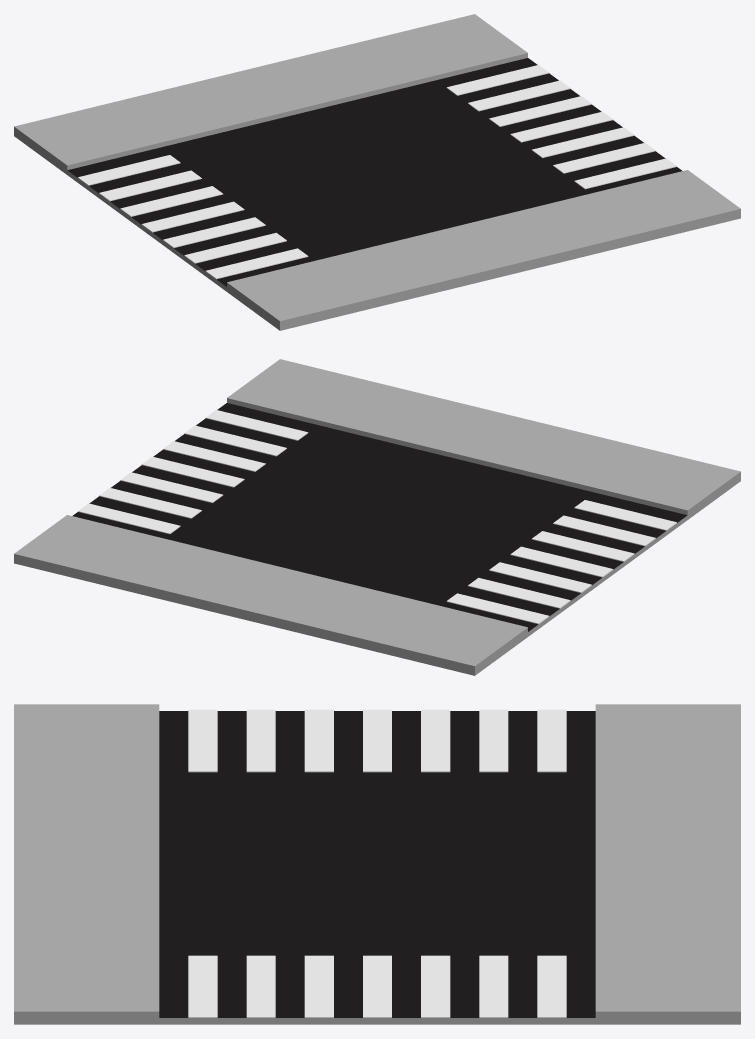
Rendered from Env_Road_Straight_03.fbx.
3 views of the same model, one above another, from view 1: azimuth 30°, elevation 25°; view 2: azimuth 150°, elevation 25°; view 3: azimuth 270°, elevation 25° (orthographic). The views are drawn at different scales.
Visible parts, largest first — view 1: Env_Road_Straight_03; view 2: Env_Road_Straight_03; view 3: Env_Road_Straight_03.
Part boxes in pixels (<box>): Env_Road_Straight_03: <box>14,14,740,330</box>; Env_Road_Straight_03: <box>14,359,740,675</box>; Env_Road_Straight_03: <box>14,704,740,1024</box>.
Size of the model in its own units: 1000 by 20 by 1000.
